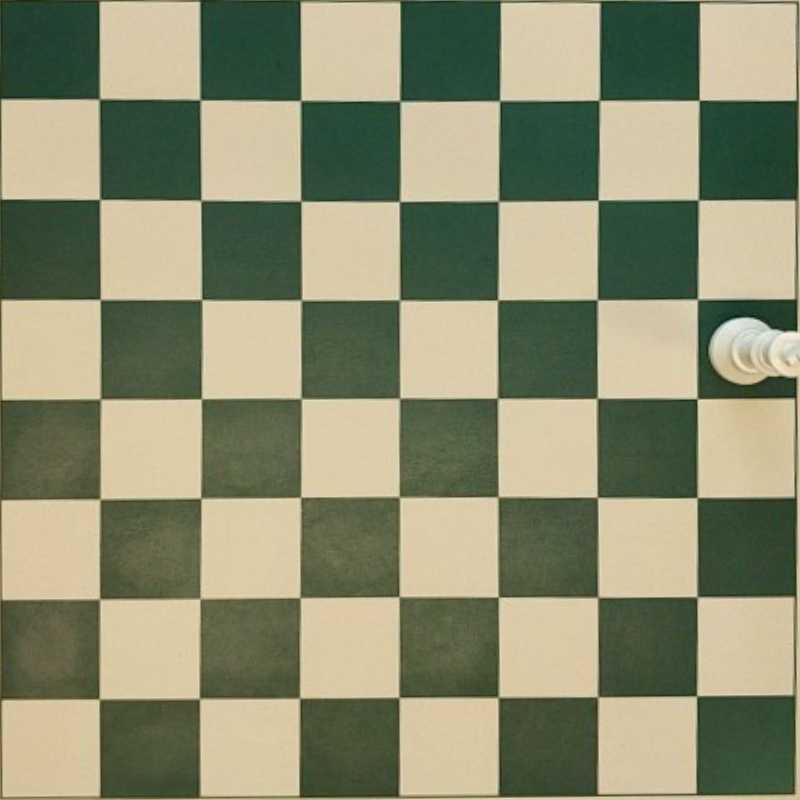white-king: (708, 316, 800, 385)
